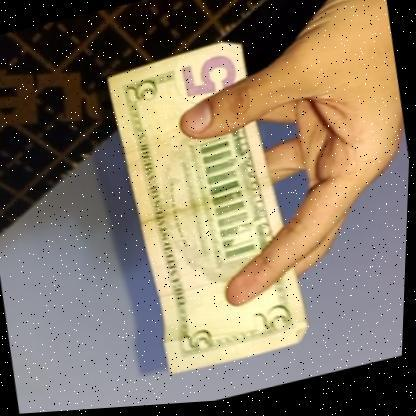five-back: (98, 23, 328, 391)
